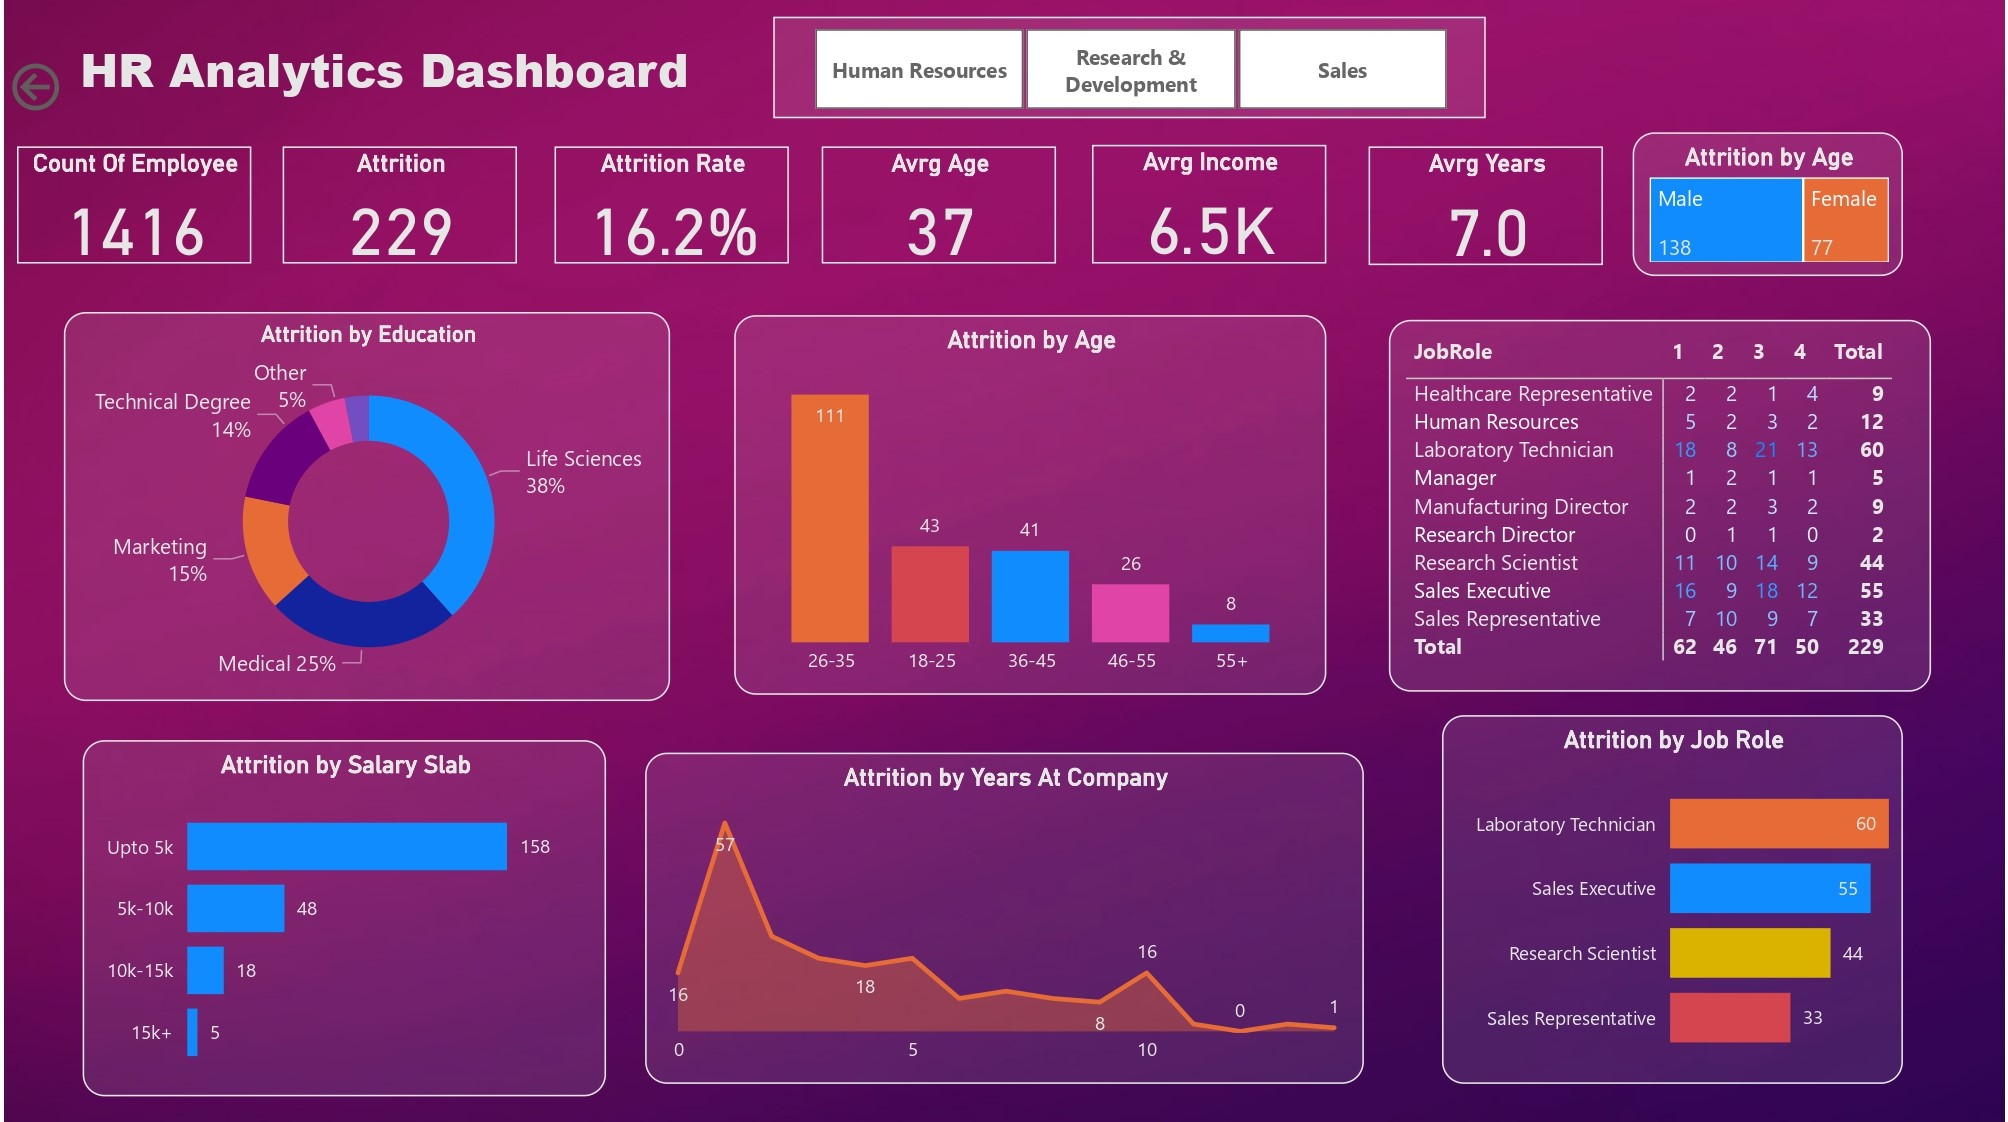

What the dashboard file says about the page in this screenshot:
{"tool":"powerbi","page":{"name":"Page 1","canvas":[1280,720],"ordinal":0},"visuals":[{"type":"card","title":"Count Of Employee","fields":{"Values":["CountNonNull(HR_Analytics.EmpID)"]},"box":[7.7,94.1,150,75],"z":0},{"type":"card","title":"Attrition","fields":{"Values":["Sum(HR_Analytics.Attrition Count)"]},"box":[177.9,94.1,150,75],"z":1000},{"type":"card","title":"Attrition Rate","fields":{"Values":["HR_Analytics.AttritionRate"]},"box":[351.7,94.1,150,75],"z":2000},{"type":"card","title":"Avrg Age","fields":{"Values":["Avg(HR_Analytics.Age)"]},"box":[522.6,94.2,150,74.5],"z":3000},{"type":"actionButton","box":[0,36.2,100,40],"z":4000},{"type":"card","title":"Avrg Income","fields":{"Values":["Avg(HR_Analytics.MonthlyIncome)"]},"box":[696,93.2,150,75.5],"z":5000},{"type":"card","title":"Avrg Years","fields":{"Values":["Avg(HR_Analytics.YearsAtCompany)"]},"box":[872.6,94.2,150,75.5],"z":6000},{"type":"donutChart","title":"Attrition by Education","fields":{"Category":["HR_Analytics.EducationField"],"Y":["Sum(HR_Analytics.Attrition Count)"]},"box":[38.1,200,388.1,248.8],"z":7000},{"type":"columnChart","title":"Attrition by Age","fields":{"Category":["HR_Analytics.AgeGroup"],"Y":["Sum(HR_Analytics.Attrition Count)"]},"box":[466.7,202.4,379.8,242.9],"z":8000},{"type":"pivotTable","title":"Job Satisfaction","fields":{"Rows":["HR_Analytics.JobRole"],"Columns":["HR_Analytics.JobSatisfaction"],"Values":["Sum(HR_Analytics.Attrition Count)"]},"box":[885.7,204.8,347.6,238.1],"z":9000},{"type":"barChart","title":"Attrition by Salary Slab","fields":{"Category":["HR_Analytics.SalarySlab"],"Y":["Sum(HR_Analytics.Attrition Count)"]},"box":[50,473.8,334.5,228.6],"z":10000},{"type":"barChart","title":"Attrition by Job Role","fields":{"Y":["Sum(HR_Analytics.Attrition Count)"],"Category":["HR_Analytics.JobRole"]},"box":[920.2,458.3,295.2,235.7],"z":11000},{"type":"areaChart","title":"Attrition by Years At Company","fields":{"Category":["HR_Analytics.YearsAtCompany"],"Y":["Sum(HR_Analytics.Attrition Count)"]},"box":[409.5,482.1,460.7,211.9],"z":12000},{"type":"treemap","title":"Attrition by Age","fields":{"Group":["HR_Analytics.Gender"],"Values":["Sum(HR_Analytics.Attrition Count)"]},"box":[1041.7,84.5,173.8,92.9],"z":13000},{"type":"slicer","fields":{"Values":["HR_Analytics.Department"]},"box":[491.7,10.7,456,65.5],"z":14000},{"type":"textbox","title":"HR Analytics Dashboard","box":[19,23.8,447.6,40.5],"z":15000}]}

Visuals, with their boxes in screenshot pixels (x1, y1, x2, y2), scaled from the page's 1280x720 canvas onto the 2008x1122 screenshot:
"Count Of Employee" card: 12/147/247/264
"Attrition" card: 279/147/514/264
"Attrition Rate" card: 552/147/787/264
"Avrg Age" card: 820/147/1055/263
actionButton: 0/56/157/119
"Avrg Income" card: 1092/145/1327/263
"Avrg Years" card: 1369/147/1604/264
"Attrition by Education" donutChart: 60/312/669/699
"Attrition by Age" columnChart: 732/315/1328/694
"Job Satisfaction" pivotTable: 1389/319/1935/690
"Attrition by Salary Slab" barChart: 78/738/603/1095
"Attrition by Job Role" barChart: 1444/714/1907/1081
"Attrition by Years At Company" areaChart: 642/751/1365/1081
"Attrition by Age" treemap: 1634/132/1907/276
slicer - HR_Analytics.Department: 771/17/1487/119
"HR Analytics Dashboard" textbox: 30/37/732/100
